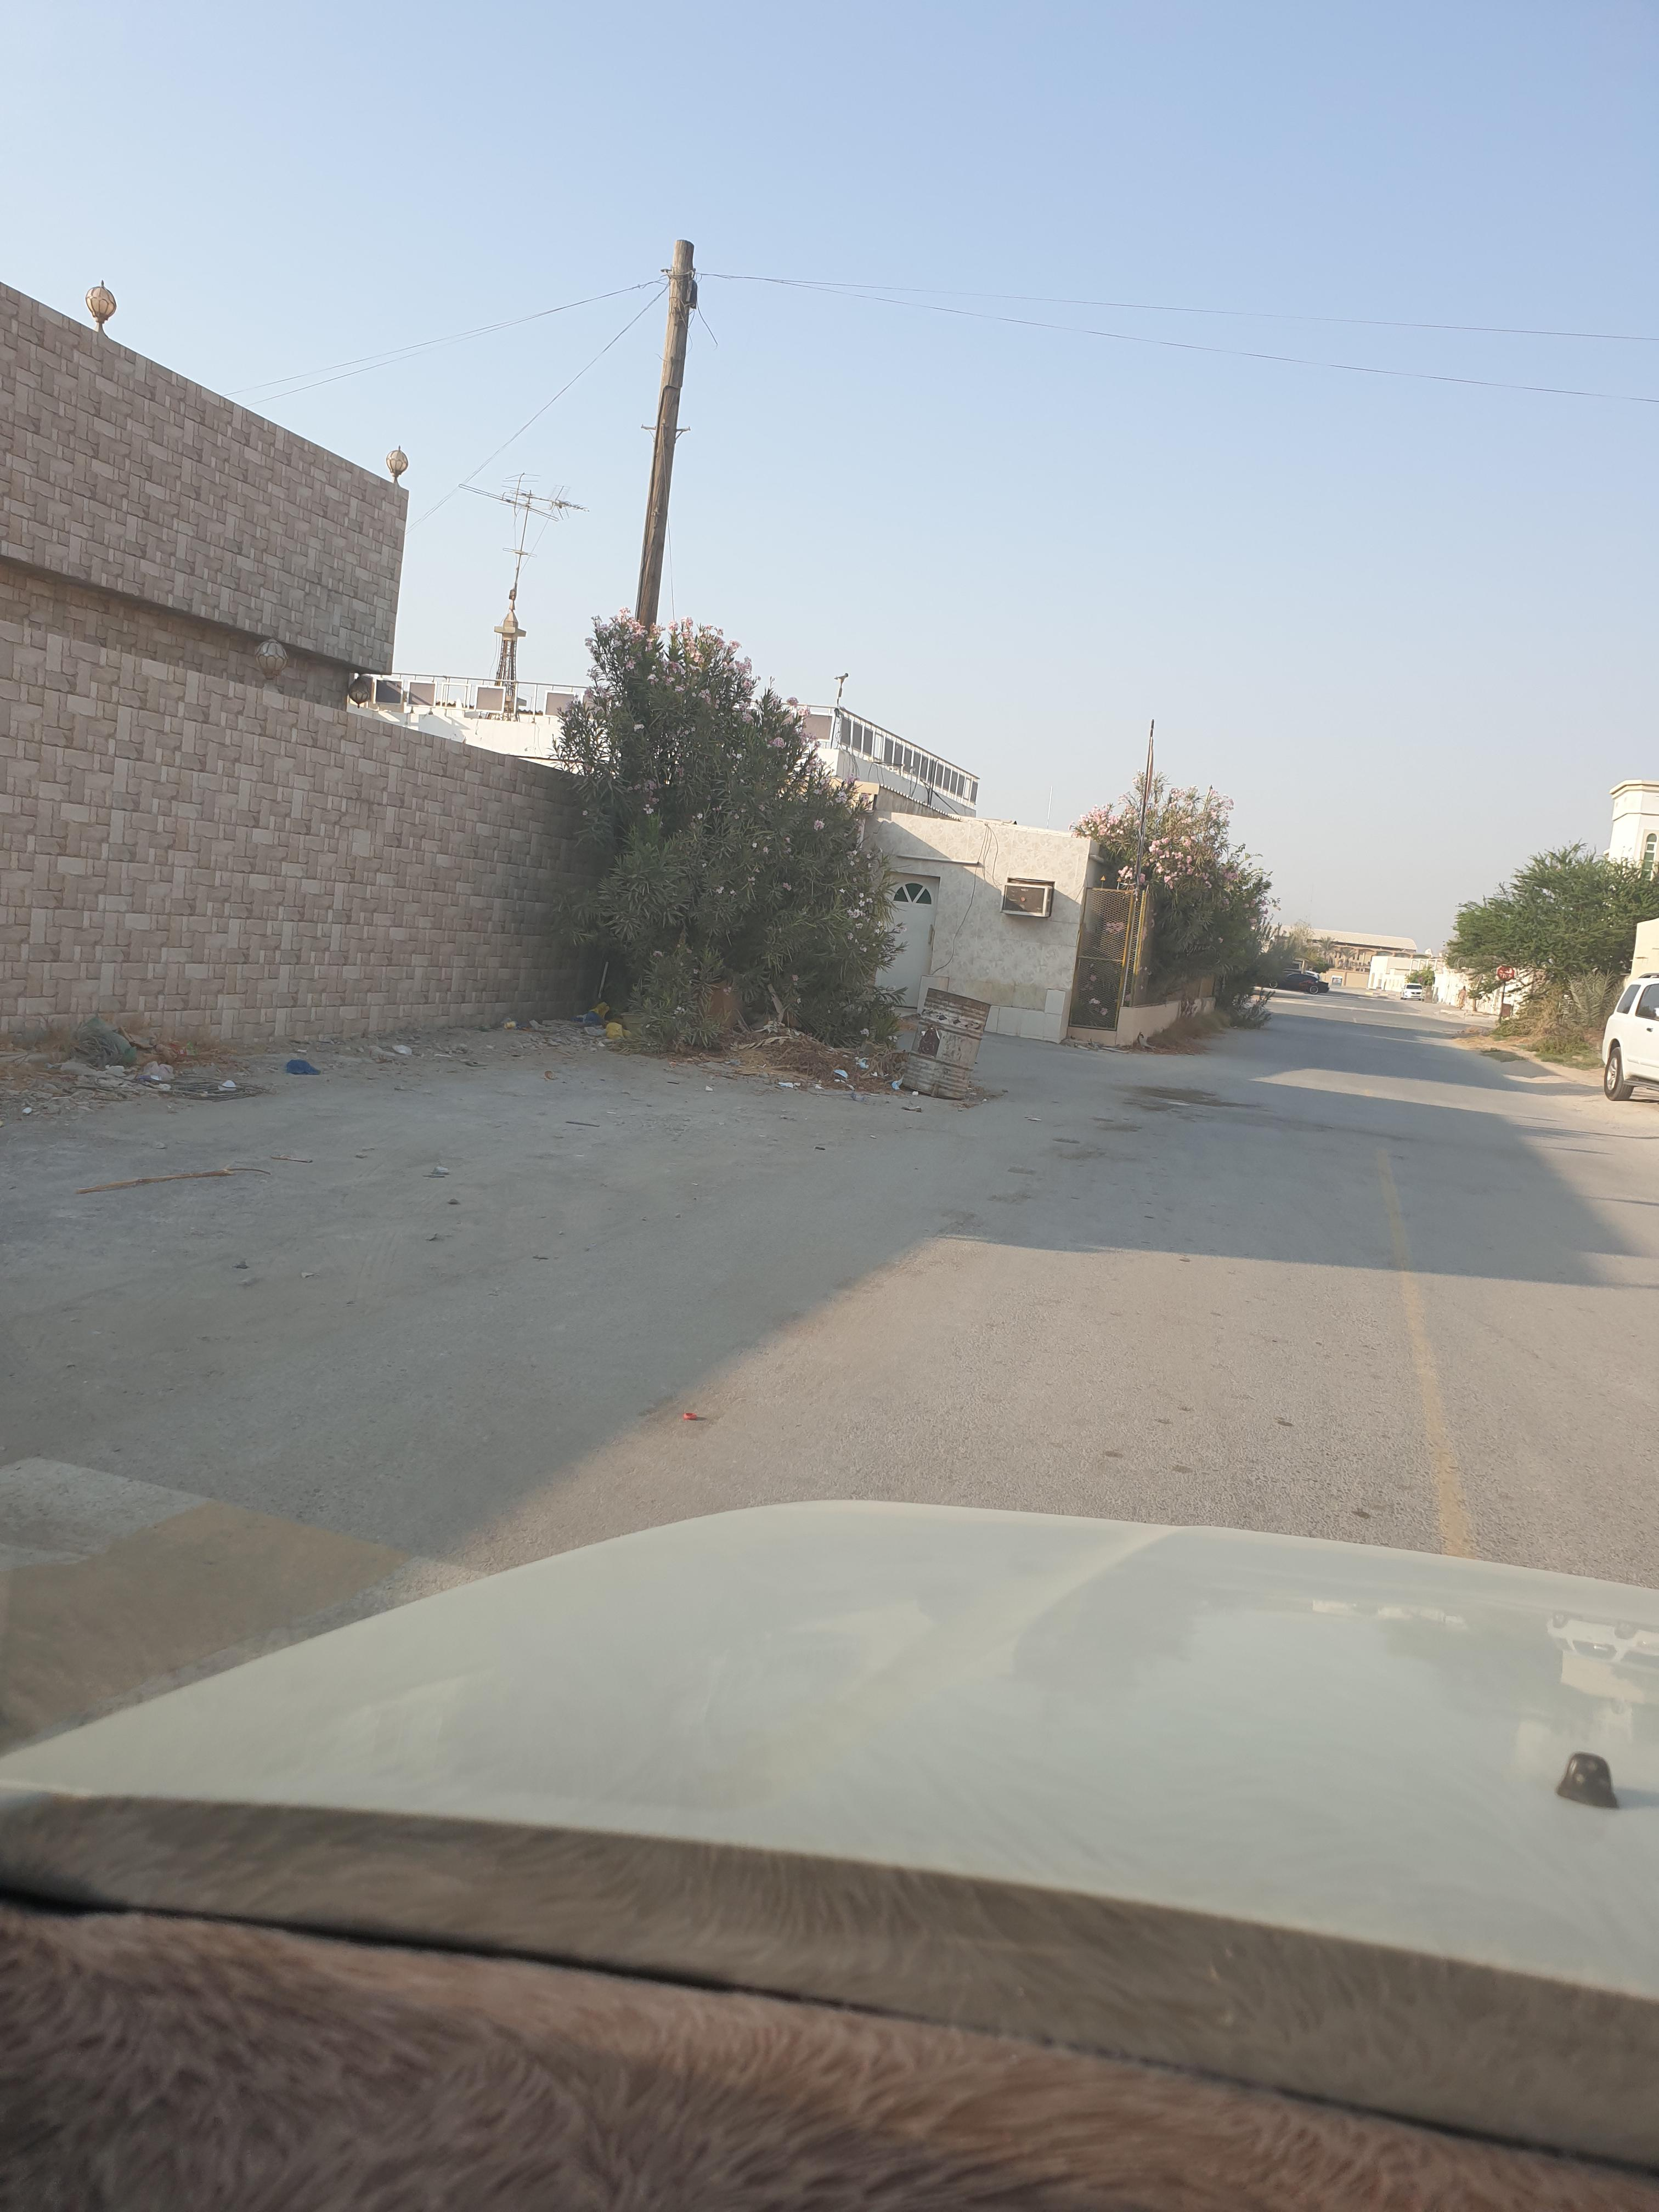fallen_trees: (662, 1003, 945, 1106), (80, 1160, 291, 1200)
uncollected_waste: (910, 981, 1025, 1118)
